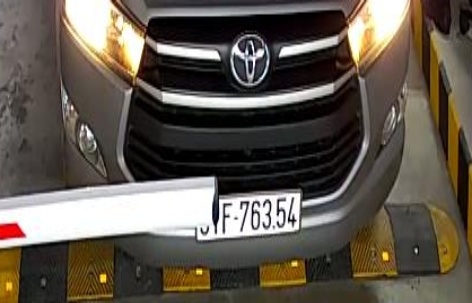plate: (186, 189, 307, 240)
